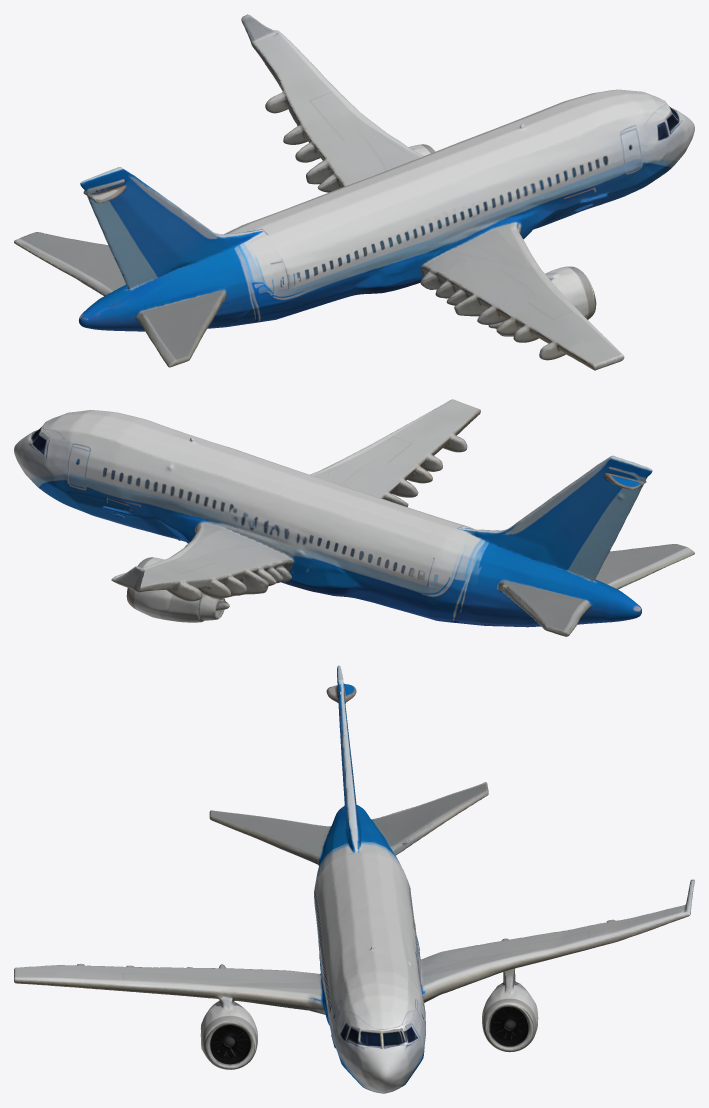
3 views of the same model, one above another, from view 1: azimuth 30°, elevation 25°; view 2: azimuth 150°, elevation 25°; view 3: azimuth 270°, elevation 25° (orthographic). The views are drawn at different scales.
Visible parts, largest first — view 1: tripo_node_5400bd75-d014-4b8d-bf19-ad0f3ab7a2d9; view 2: tripo_node_5400bd75-d014-4b8d-bf19-ad0f3ab7a2d9; view 3: tripo_node_5400bd75-d014-4b8d-bf19-ad0f3ab7a2d9.
Boxes of the visible parts, box(x1,y1,x2,y2) form: tripo_node_5400bd75-d014-4b8d-bf19-ad0f3ab7a2d9: box(14, 14, 694, 370); tripo_node_5400bd75-d014-4b8d-bf19-ad0f3ab7a2d9: box(14, 399, 694, 636); tripo_node_5400bd75-d014-4b8d-bf19-ad0f3ab7a2d9: box(14, 665, 694, 1093).
Bounding box in the file's own units: 1 × 0.3157 × 0.9579.
1 material, 1 textured.
